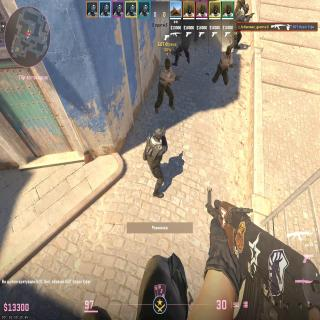CT-Body: (143, 128, 168, 198), (233, 3, 250, 51), (176, 22, 191, 64)
CT-Head: (154, 128, 162, 142), (243, 3, 249, 14)
T-Body: (156, 58, 175, 110), (216, 46, 233, 86)
T-Head: (164, 58, 171, 70), (226, 46, 232, 55)
